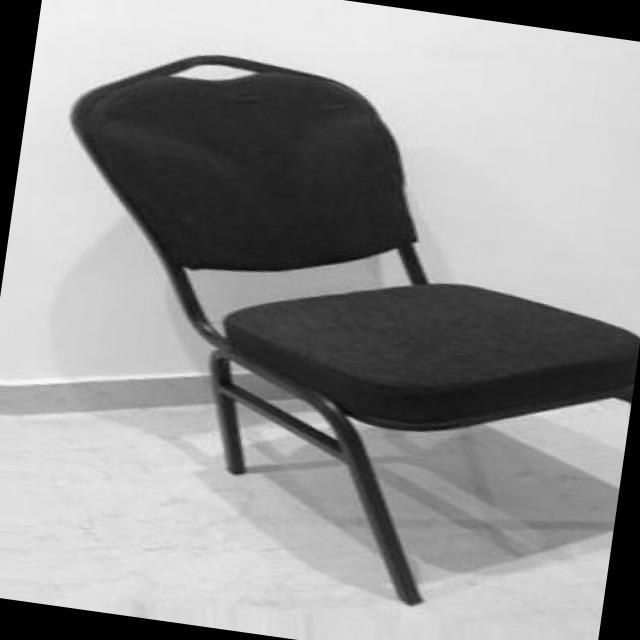chair: (6, 34, 640, 636)
